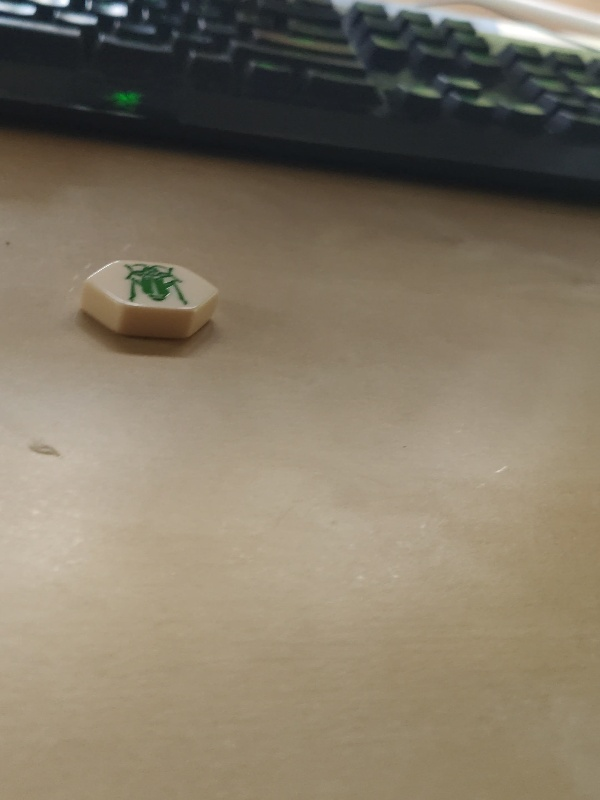white_grasshopper: (80, 260, 227, 340)
